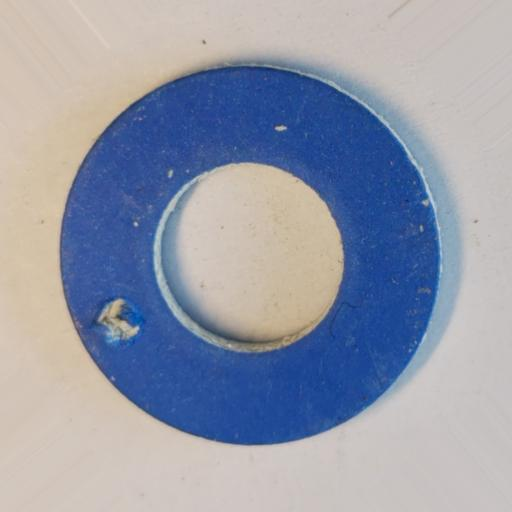defect: (89, 295, 148, 348)
